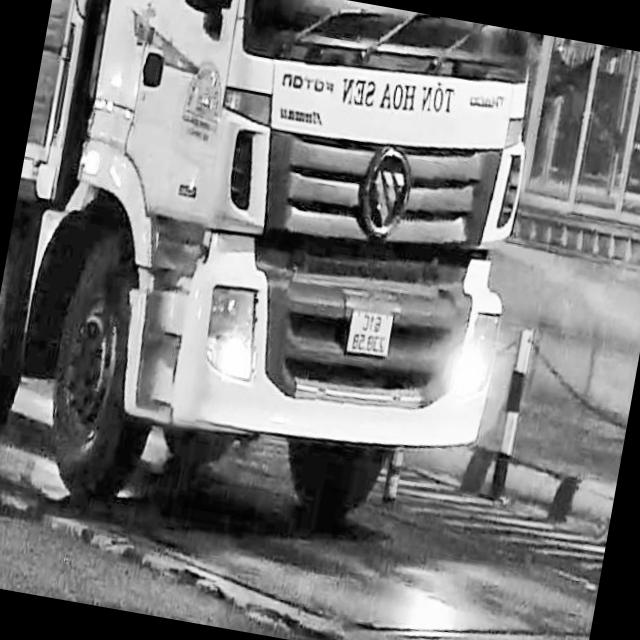Truck: (0, 0, 553, 567)
